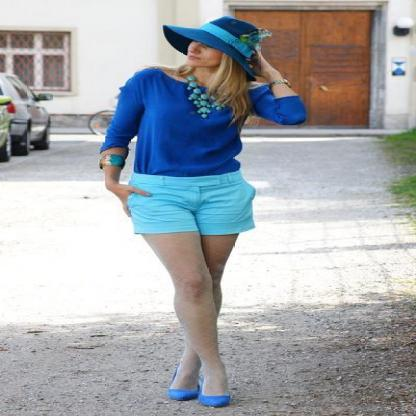hat: (163, 18, 261, 85)
shirt: (100, 68, 306, 176)
shoe: (166, 389, 227, 406)
shorts: (119, 158, 254, 237)
